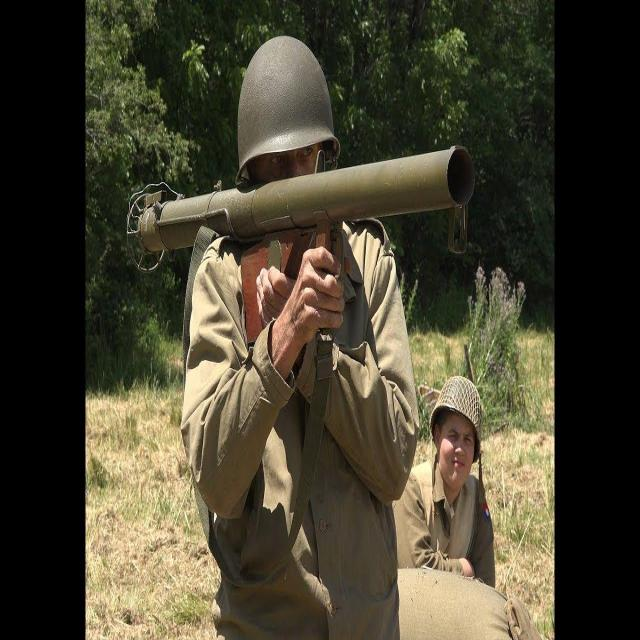weapon: (121, 138, 485, 348)
